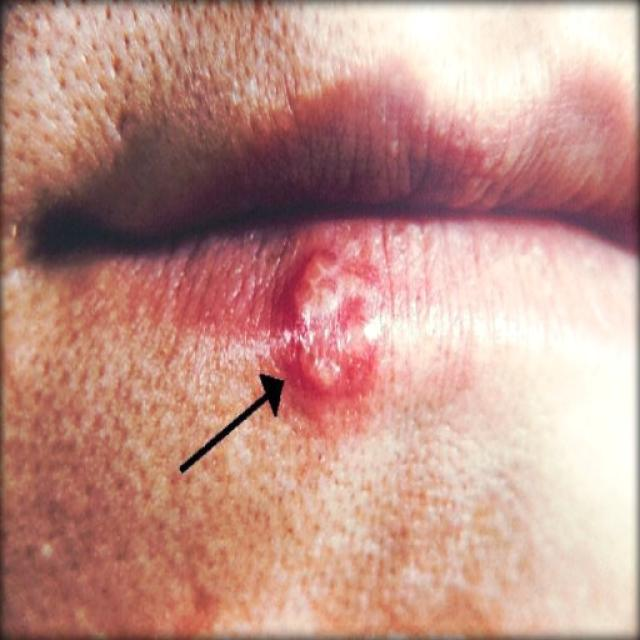cancer-detection: (243, 245, 423, 415)
processing_area: (31, 224, 633, 450)
